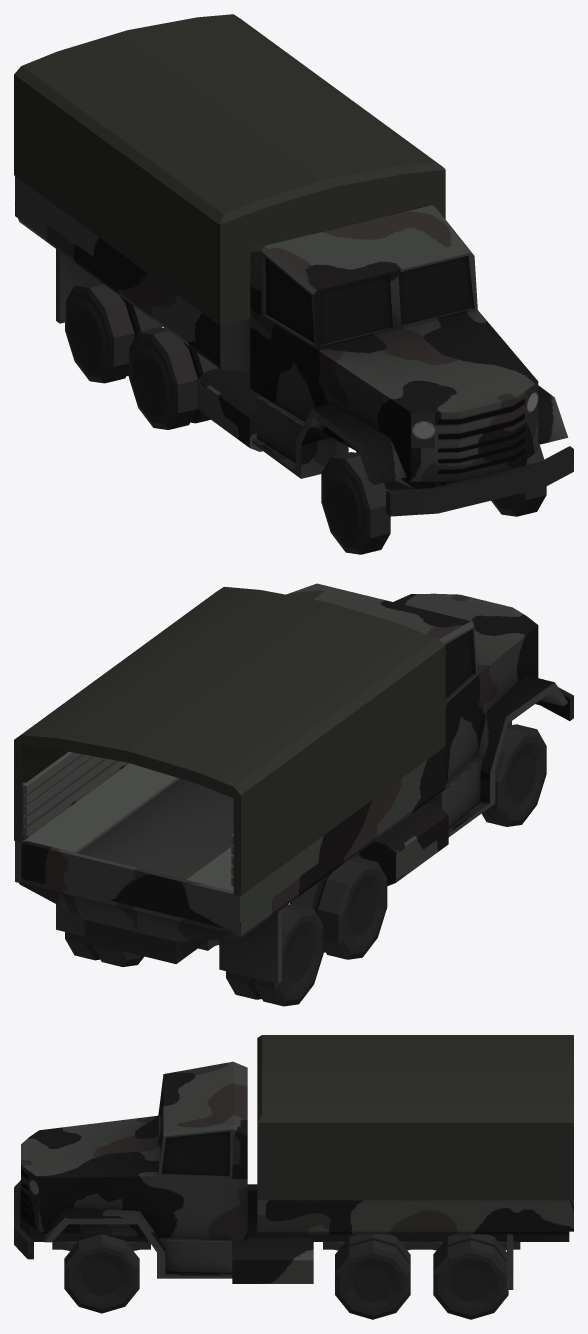
File: Deuce_Truck.fbx
The picture shows the model from 3 angles, top to bottom: view 1: azimuth 30°, elevation 25°; view 2: azimuth 150°, elevation 25°; view 3: azimuth 270°, elevation 25°; orthographic projection. The views are drawn at different scales.
Parts seen in each view (by area): view 1: Body, Canvas_Top, Wheel_Back_Right_One, Wheel_Back_Right_Two, Wheel_Front_Right, Fuel_Tank_Right, Wheel_Front_Left; view 2: Canvas_Top, Body, Trunk, Wheel_Back_Right_One, Bed_Seat_Left, Wheel_Back_Right_Two, Wheel_Front_Right, Wood_Bed_Left, Fuel_Tank_Right, Wheel_Back_Left_Two, Bed_Seat_Right; view 3: Canvas_Top, Body, Wheel_Back_Left_One, Wheel_Back_Left_Two, Wheel_Front_Left, Fuel_Tank_Left, Axle_Mount.
Part boxes in pixels (x1=…): Body: x1=15, y1=176, x2=573, y2=516; Canvas_Top: x1=14, y1=14, x2=445, y2=325; Wheel_Back_Right_One: x1=129, y1=327, x2=218, y2=429; Wheel_Back_Right_Two: x1=65, y1=280, x2=162, y2=383; Wheel_Front_Right: x1=321, y1=452, x2=390, y2=554; Fuel_Tank_Right: x1=197, y1=368, x2=262, y2=451; Wheel_Front_Left: x1=491, y1=445, x2=546, y2=516; Canvas_Top: x1=14, y1=586, x2=445, y2=895; Body: x1=15, y1=583, x2=573, y2=983; Trunk: x1=21, y1=840, x2=233, y2=930; Wheel_Back_Right_One: x1=290, y1=857, x2=387, y2=959; Bed_Seat_Left: x1=25, y1=763, x2=179, y2=853; Wheel_Back_Right_Two: x1=226, y1=903, x2=323, y2=1006; Wheel_Front_Right: x1=481, y1=724, x2=546, y2=826; Wood_Bed_Left: x1=23, y1=752, x2=126, y2=835; Fuel_Tank_Right: x1=352, y1=803, x2=448, y2=885; Wheel_Back_Left_Two: x1=65, y1=932, x2=144, y2=966; Bed_Seat_Right: x1=186, y1=847, x2=233, y2=891; Canvas_Top: x1=257, y1=1035, x2=573, y2=1200; Body: x1=14, y1=1061, x2=573, y2=1289; Wheel_Back_Left_One: x1=335, y1=1234, x2=410, y2=1319; Wheel_Back_Left_Two: x1=433, y1=1234, x2=508, y2=1319; Wheel_Front_Left: x1=64, y1=1234, x2=139, y2=1313; Fuel_Tank_Left: x1=232, y1=1237, x2=313, y2=1283; Axle_Mount: x1=52, y1=1242, x2=520, y2=1250.
Size of the model in its own units: 4.57 by 5.32 by 12.68.
